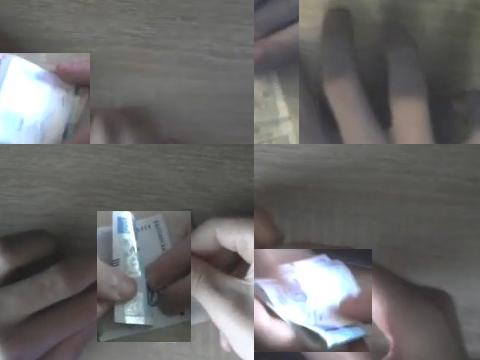20leva: (97, 211, 191, 342), (254, 250, 372, 352), (0, 53, 90, 144)
